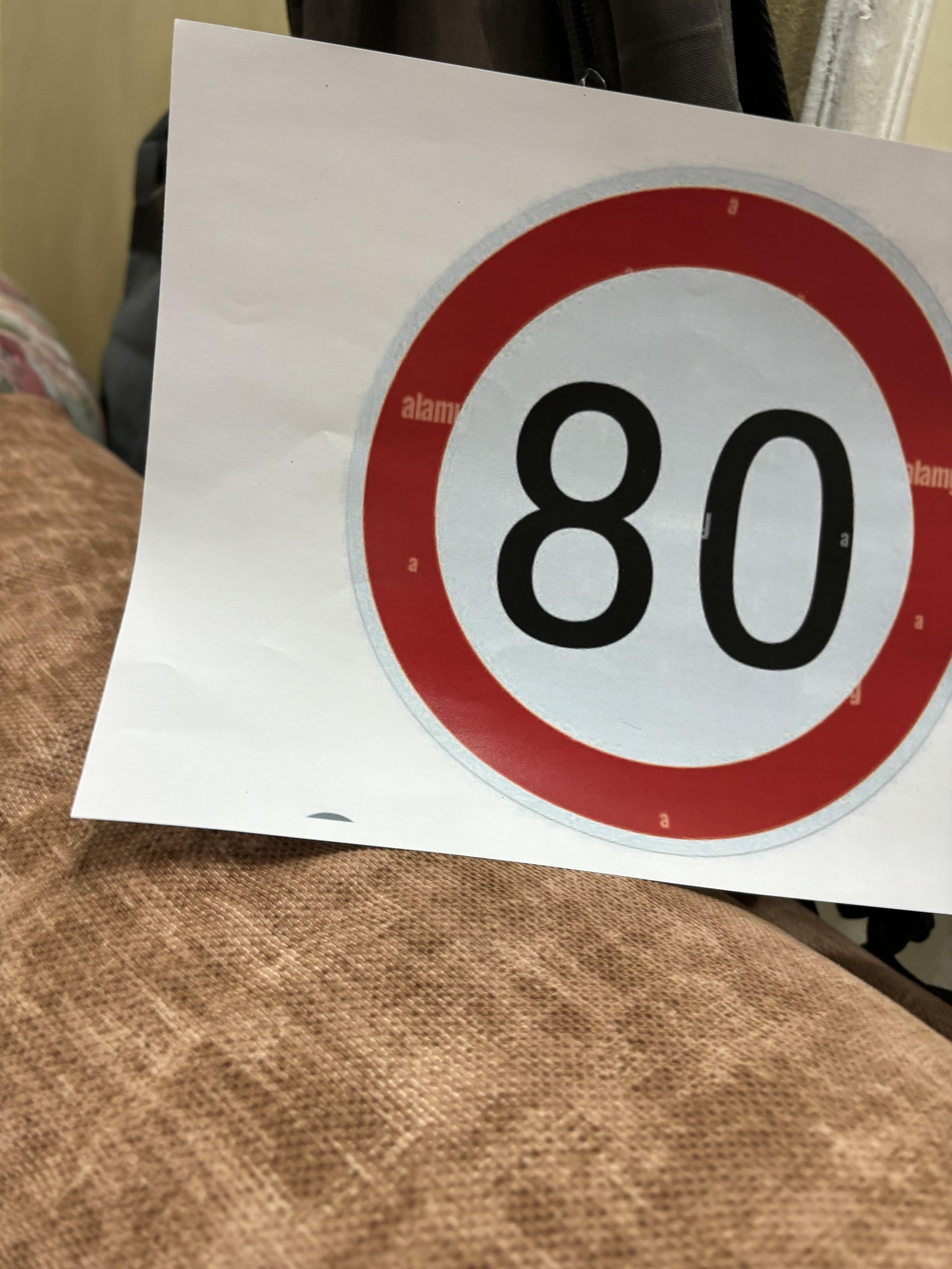80-Speed: (329, 163, 952, 870)
